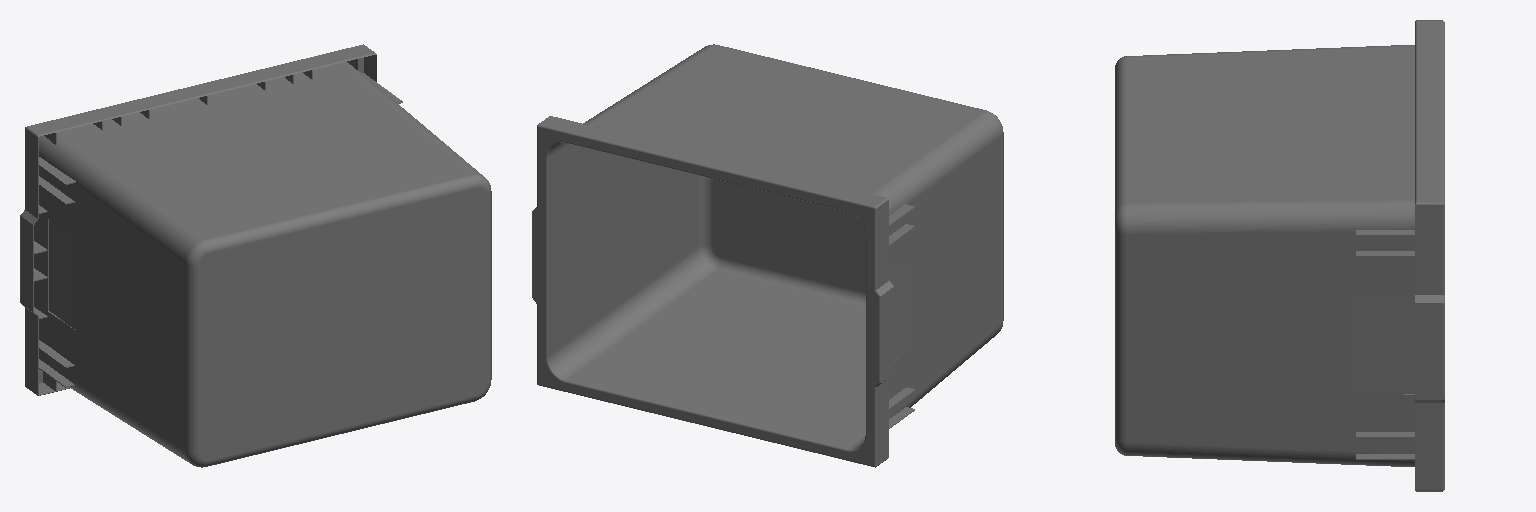
The robot description file, URDF, robot "Bin":
<?xml version="1.0" encoding="utf-8"?>
<!-- This URDF was automatically created by SolidWorks to URDF Exporter! Originally created by [author] ([email redacted]) 
     Commit Version: 1.6.0-1-g15f4949  Build Version: 1.6.7594.29634
     For more information, please see http://wiki.ros.org/sw_urdf_exporter -->
<robot
  name="Bin">
  <link
    name="bin">
    <inertial>
      <origin
        xyz="0.0070957 -0.017015 0.011659"
        rpy="0 0 0" />
      <mass
        value="1.0733" />
      <inertia
        ixx="0.019584"
        ixy="1.0911E-06"
        ixz="1.11E-06"
        iyy="0.026789"
        iyz="-1.6807E-06"
        izz="0.026373" />
    </inertial>
    <visual>
      <origin
        xyz="0 0 0"
        rpy="0 0 0" />
      <geometry>
        <mesh
          filename="package://Bin/meshes/bin.STL" />
      </geometry>
      <material
        name="">
        <color
          rgba="0.50196 0.50196 0.50196 1" />
      </material>
    </visual>
    <collision>
      <origin
        xyz="0 0 0"
        rpy="0 0 0" />
      <geometry>
        <mesh
          filename="package://Bin/meshes/bin.STL" />
      </geometry>
    </collision>
  </link>
</robot>

--- Render facts (derived) ---
Views: 3 orthographic renders of the robot side by side, from view 1: azimuth 30°, elevation 25°; view 2: azimuth 150°, elevation 25°; view 3: azimuth 270°, elevation 25°.
Robot: Bin — 1 links, 0 joints (none); root link bin; default pose: all joints at 0.
Visible links, largest first — view 1: bin; view 2: bin; view 3: bin.
Link boxes in pixels (<box>): bin: <box>20,44,491,467</box>; bin: <box>532,44,1003,467</box>; bin: <box>1115,20,1444,491</box>.
Size in the robot's own frame: 375 by 277 by 268 metres.
1 mesh visuals loaded from 1 distinct referenced files (1 binary STL).